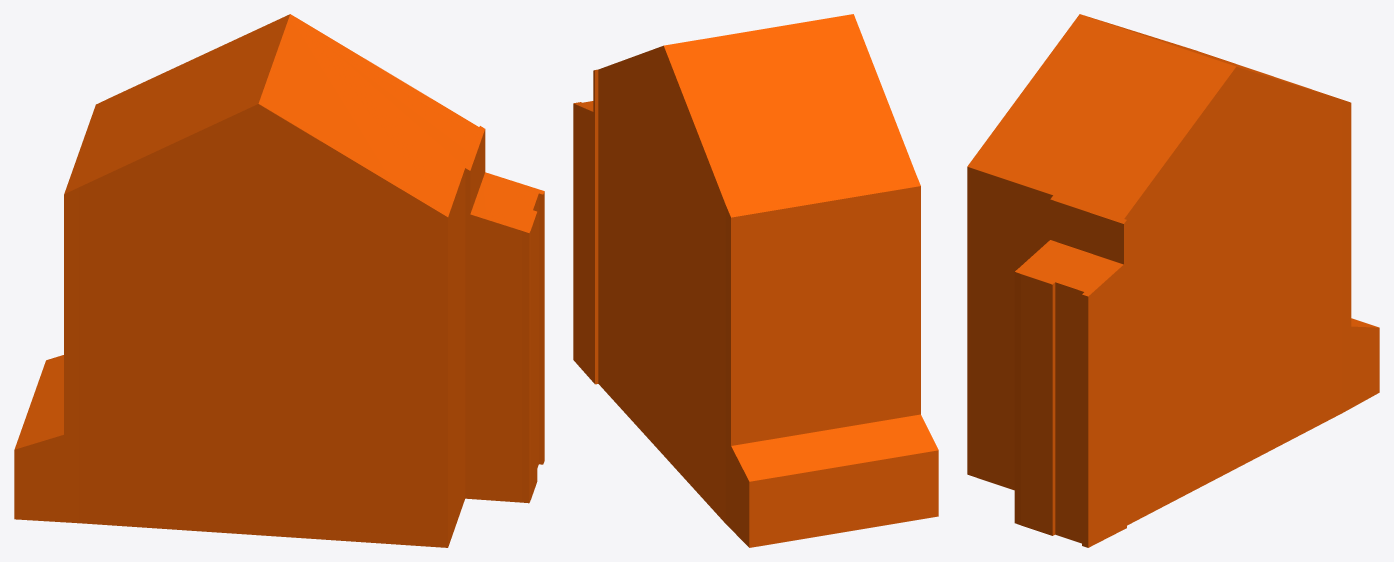
The model's file is DEHB01ALn0001N2R.dae.
3 renders of one model, left to right at view 1: azimuth 30°, elevation 25°; view 2: azimuth 150°, elevation 25°; view 3: azimuth 270°, elevation 25°, orthographic. The views are drawn at different scales.
Bounding box in the file's own units: 16.43 × 13.78 × 14.81.
